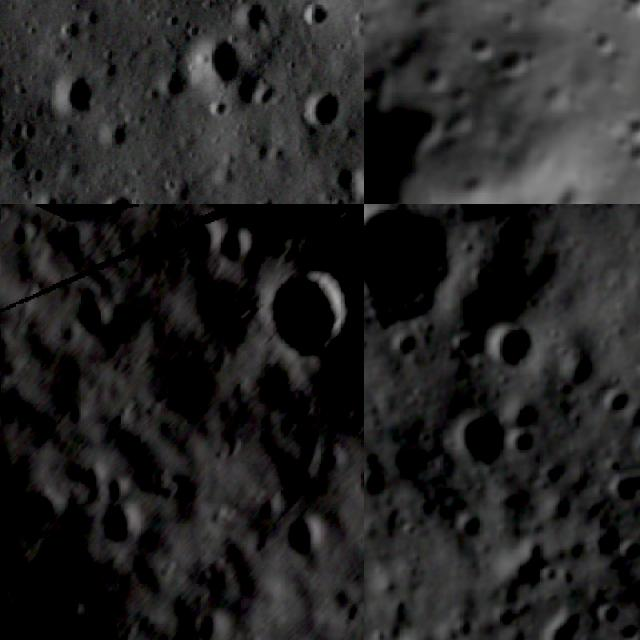crater: (364, 204, 482, 345), (364, 59, 464, 193), (252, 252, 357, 370), (419, 204, 594, 257), (437, 391, 522, 476), (476, 308, 551, 385), (180, 18, 248, 100), (442, 494, 508, 560), (515, 592, 601, 640), (483, 30, 546, 95), (44, 64, 108, 124), (90, 495, 151, 549), (273, 510, 331, 563), (597, 450, 640, 519), (69, 290, 124, 342), (171, 204, 220, 262), (538, 490, 590, 543), (594, 368, 640, 427), (492, 412, 544, 464), (302, 79, 352, 133), (383, 612, 469, 640), (584, 204, 640, 247), (219, 222, 268, 271), (456, 24, 502, 76), (541, 172, 609, 204), (30, 487, 70, 531), (332, 150, 364, 204), (607, 101, 640, 152), (414, 56, 452, 94), (293, 0, 330, 37), (447, 78, 479, 110), (601, 0, 640, 24), (351, 443, 364, 509), (0, 153, 16, 200), (622, 138, 640, 177), (568, 625, 610, 640), (102, 192, 137, 204)
